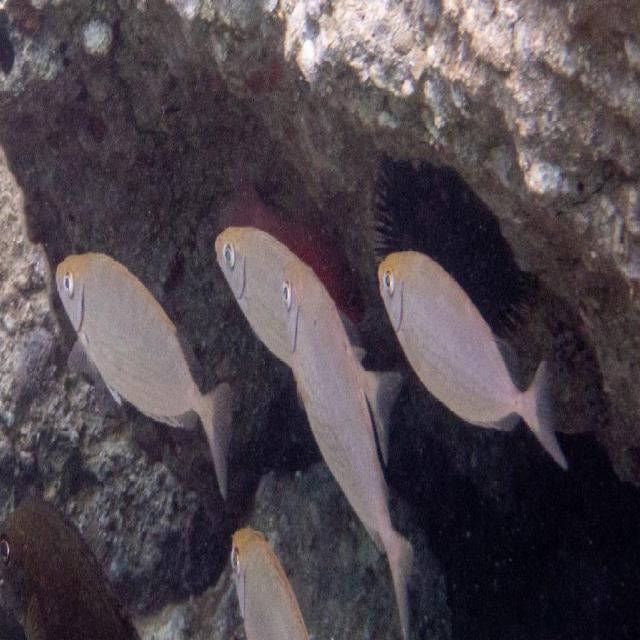Sokar Baligi: (47, 227, 237, 517), (372, 244, 573, 479)
